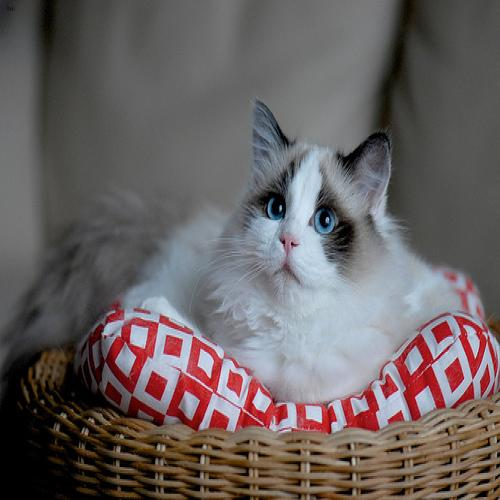ragdoll: (226, 94, 403, 309)
